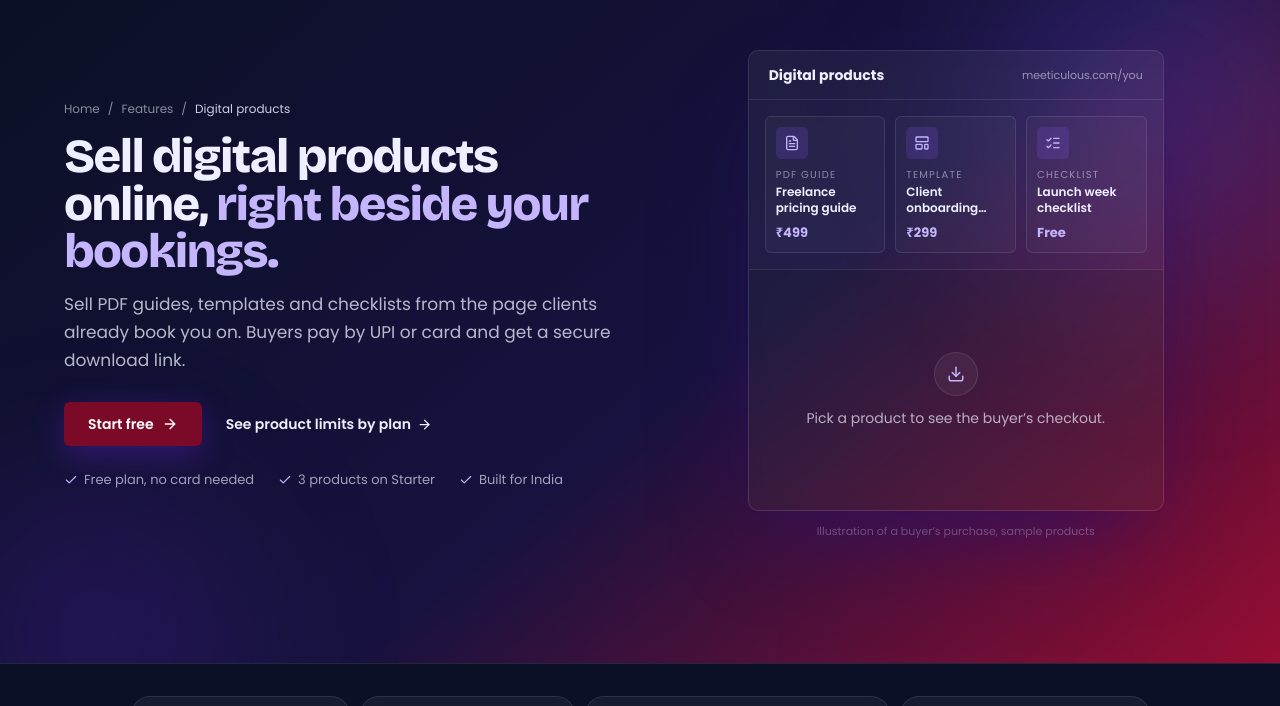
Test case: Digital products feature page › opens checkout from the shelf, then shows the download-ready state
Click the button "Template Client onboarding template ₹299". click: (956, 185)
box: [895, 116, 1016, 254]
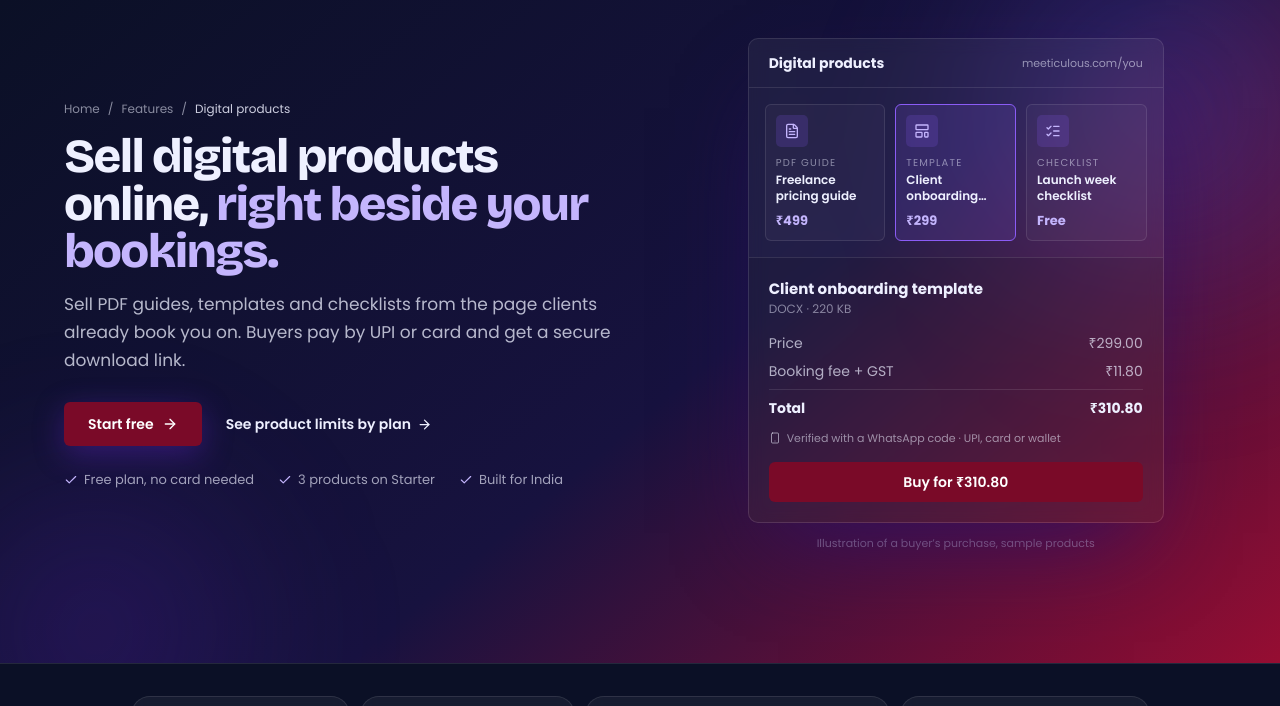
Click the button "Buy for ₹310.80". click: (956, 482)
box: [769, 462, 1143, 502]
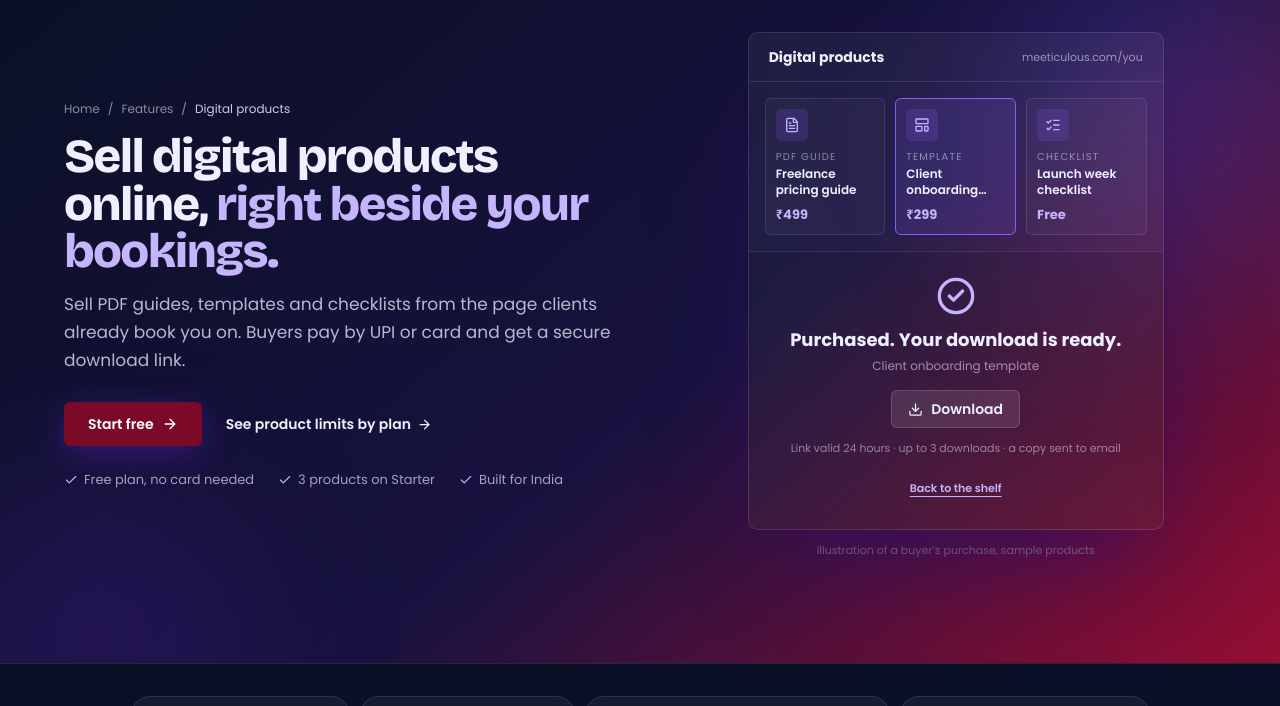
Now the text "Purchased. Your download is ready." is shown, box [790, 326, 1121, 354]
